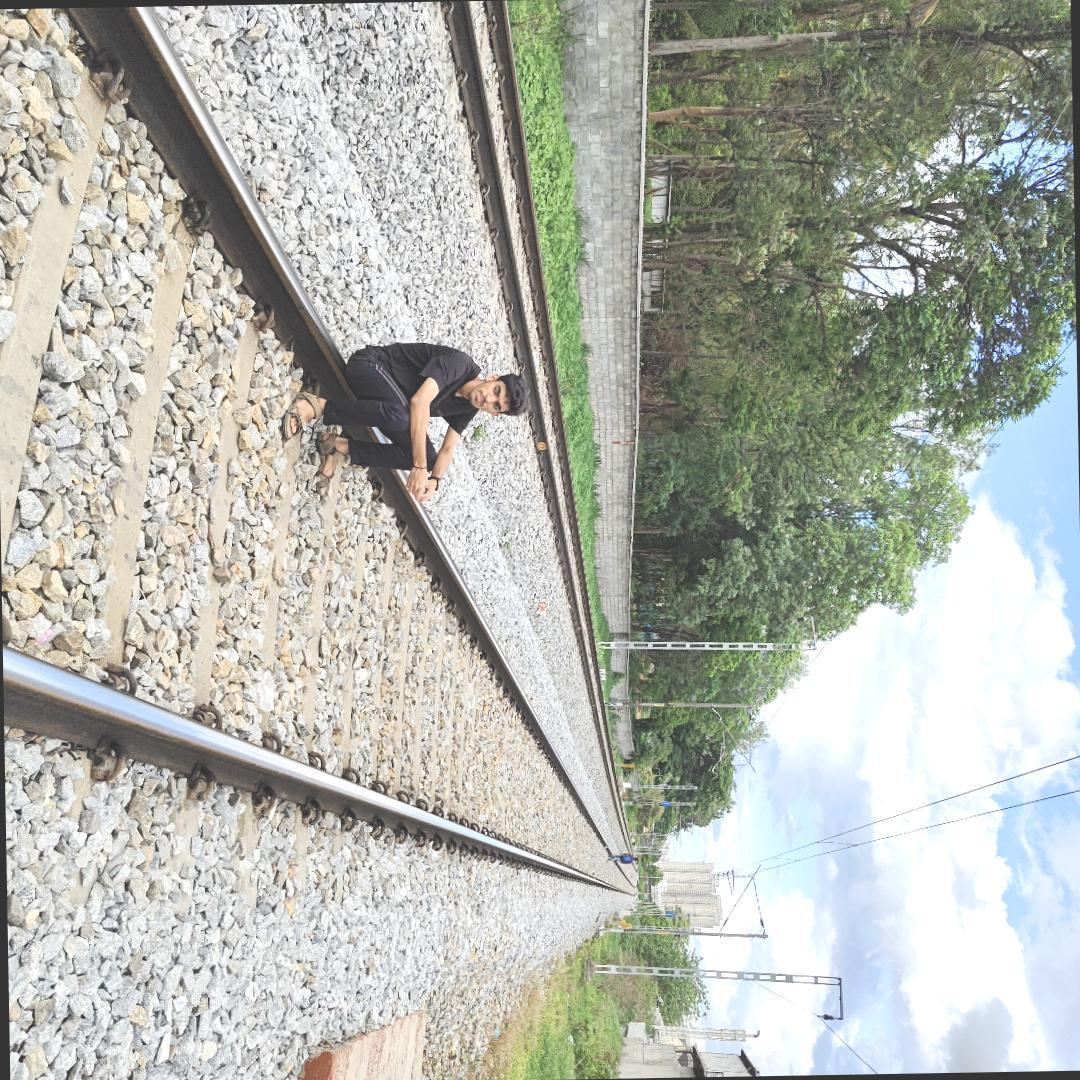sitting: (253, 325, 537, 524)
